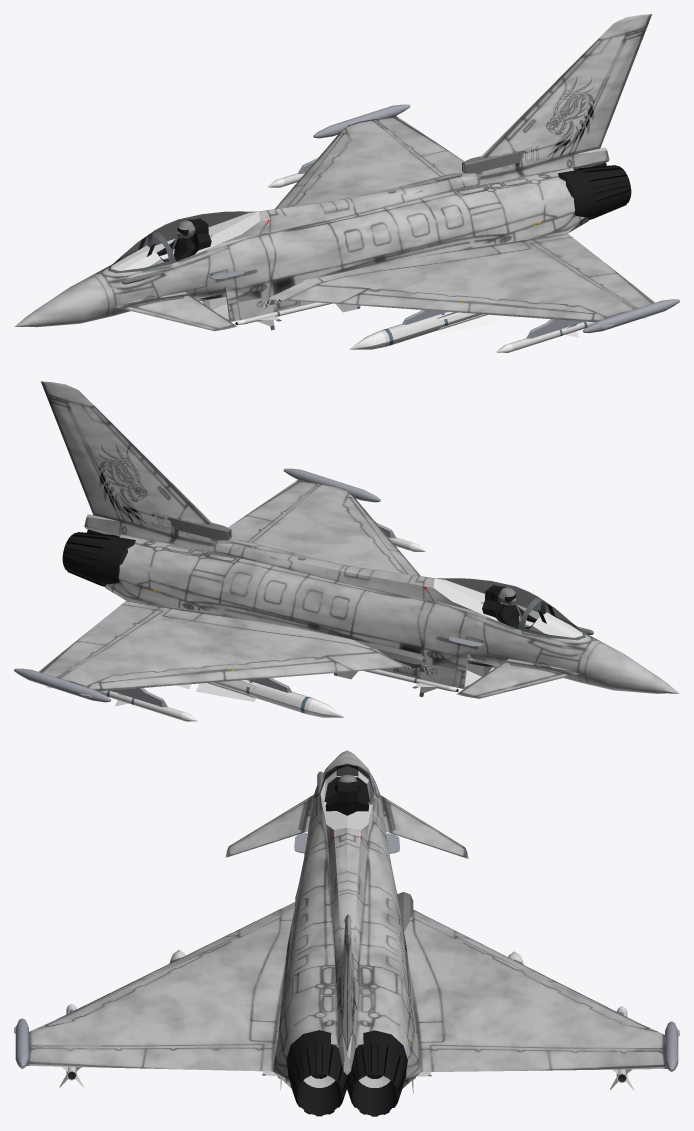
Rendered from Eurofighter_v01.fbx.
3 views of the same model, one above another, from view 1: azimuth 30°, elevation 25°; view 2: azimuth 150°, elevation 25°; view 3: azimuth 270°, elevation 25° (orthographic). The views are drawn at different scales.
Parts seen in each view (by area): view 1: Eurofighter 3, Eurofighter 1 adds 2.002, AIM-54 Phoenix.002, Eurofighter 1 interior.002, Eurofighter 1 cockpit.002, AIM-120 Amraam.002, Eurofighter 1 adds 1.002, AIM-9 Sidewinder.002, Pilot.002, seat.002; view 2: Eurofighter 3, Eurofighter 1 adds 2.002, AIM-54 Phoenix.002, Eurofighter 1 interior.002, Eurofighter 1 adds 1.002, Eurofighter 1 cockpit.002, AIM-120 Amraam.002, AIM-9 Sidewinder.002, Pilot.002; view 3: Eurofighter 3, Eurofighter 1 adds 2.002, Eurofighter 1 interior.002, seat.002, Eurofighter 1 adds 1.002, AIM-120 Amraam.002.
Part boxes in pixels (box(x1,y1,x2,y2)): Eurofighter 3: box(14, 14, 665, 331); Eurofighter 1 adds 2.002: box(209, 104, 679, 338); AIM-54 Phoenix.002: box(350, 312, 518, 349); Eurofighter 1 interior.002: box(111, 211, 259, 270); Eurofighter 1 cockpit.002: box(108, 211, 257, 273); AIM-120 Amraam.002: box(268, 173, 647, 352); Eurofighter 1 adds 1.002: box(122, 150, 525, 284); AIM-9 Sidewinder.002: box(235, 300, 360, 330); Pilot.002: box(157, 220, 195, 261); seat.002: box(187, 218, 211, 254); Eurofighter 3: box(38, 381, 679, 698); Eurofighter 1 adds 2.002: box(14, 468, 484, 707); AIM-54 Phoenix.002: box(176, 680, 343, 717); Eurofighter 1 interior.002: box(433, 578, 582, 637); Eurofighter 1 adds 1.002: box(168, 517, 593, 668); Eurofighter 1 cockpit.002: box(437, 578, 585, 640); AIM-120 Amraam.002: box(47, 537, 425, 721); AIM-9 Sidewinder.002: box(334, 667, 458, 697); Pilot.002: box(497, 587, 536, 628); Eurofighter 3: box(26, 750, 667, 1089); Eurofighter 1 adds 2.002: box(14, 833, 679, 1116); Eurofighter 1 interior.002: box(320, 765, 373, 829); seat.002: box(325, 781, 368, 815); Eurofighter 1 adds 1.002: box(317, 771, 413, 992); AIM-120 Amraam.002: box(59, 1004, 633, 1090).
Size of the model in its own units: 1577 by 484 by 1183.
17 materials, 1 textured.
